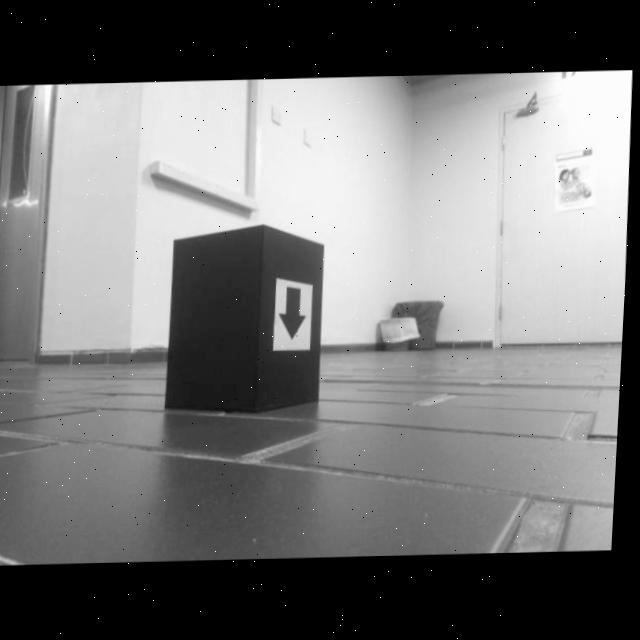DOWN: (281, 286, 311, 342)
